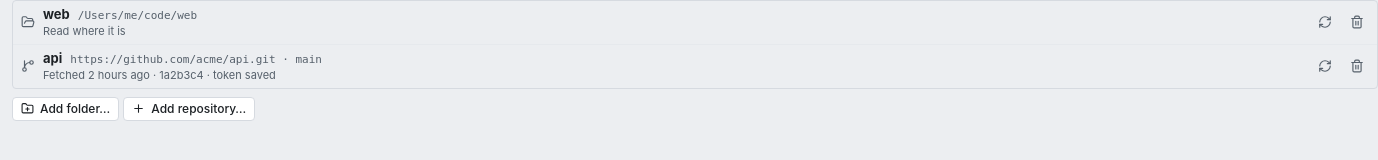
Scenario: removes a source and checks access, showing the error
This screenshot has width=1378, height=160.
Click the button named "Check access to api". click: (1325, 66)
box: [1313,54,1337,78]
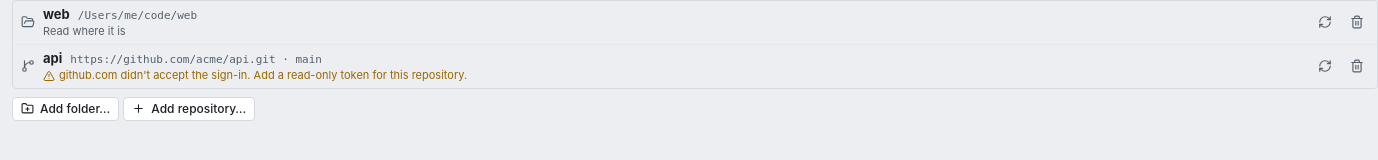
Result: the text "didn't accept the sign-in" is shown at [59,68,467,82]
Click the button named "Remove web". click: (1357, 22)
box: [1345,10,1369,34]
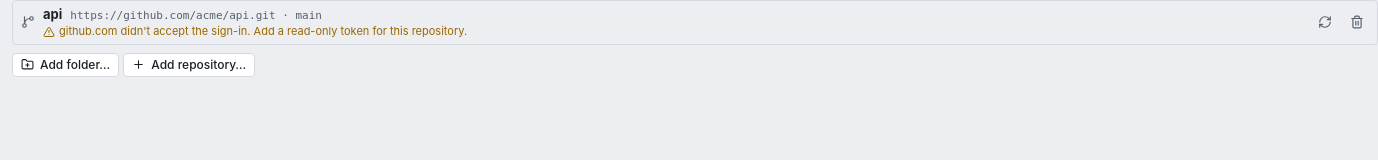
Result: the text "/Users/me/code/web" is gone
